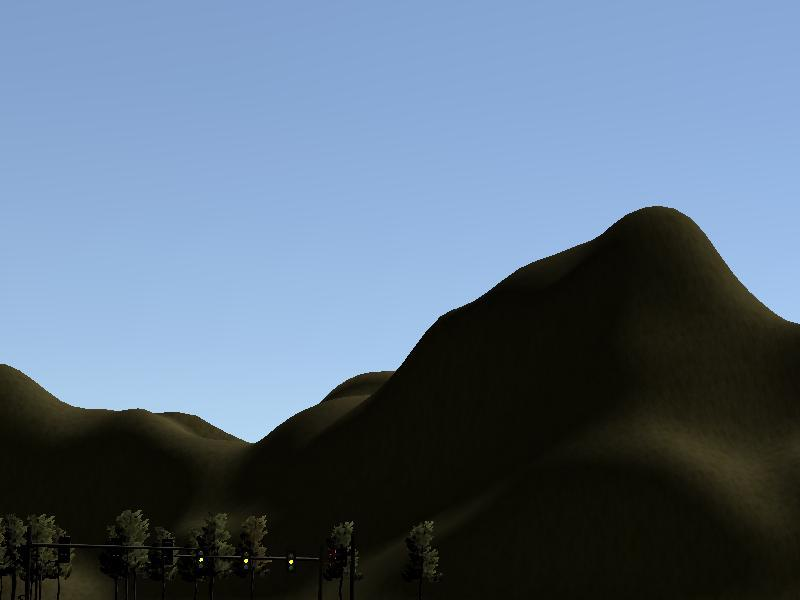Yellow: (286, 548, 297, 574), (196, 548, 207, 571), (241, 549, 251, 571)
